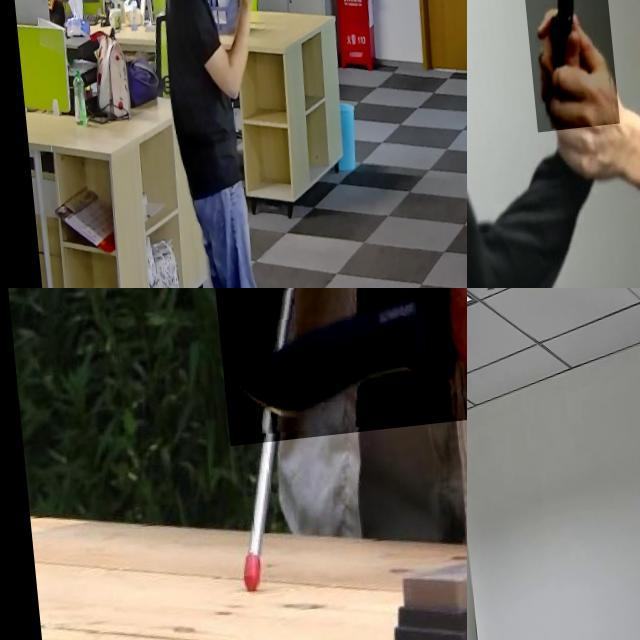-: (209, 288, 467, 451), (514, 0, 612, 140)
gun-knife-thesis - v11 Yolov5 augmented: (467, 501, 492, 640), (215, 0, 257, 44)
